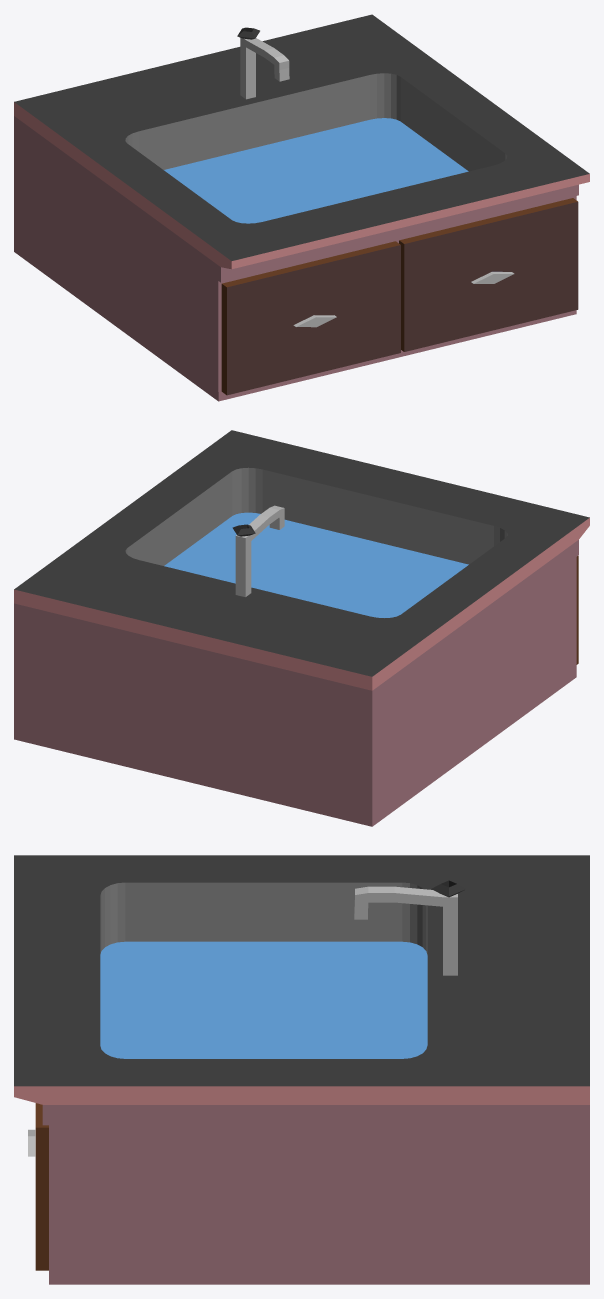
Rendered from Res01_Kitchen_Sink.fbx.
3 views of the same model, one above another, from view 1: azimuth 30°, elevation 25°; view 2: azimuth 150°, elevation 25°; view 3: azimuth 270°, elevation 25° (orthographic). The views are drawn at different scales.
Visible parts, largest first — view 1: Res01_Kitchen_Sink; view 2: Res01_Kitchen_Sink; view 3: Res01_Kitchen_Sink.
Boxes of the visible parts, <box> form: Res01_Kitchen_Sink: <box>14,14,589,401</box>; Res01_Kitchen_Sink: <box>14,430,589,826</box>; Res01_Kitchen_Sink: <box>14,855,589,1284</box>.
Size of the model in its own units: 200 by 116 by 211.
